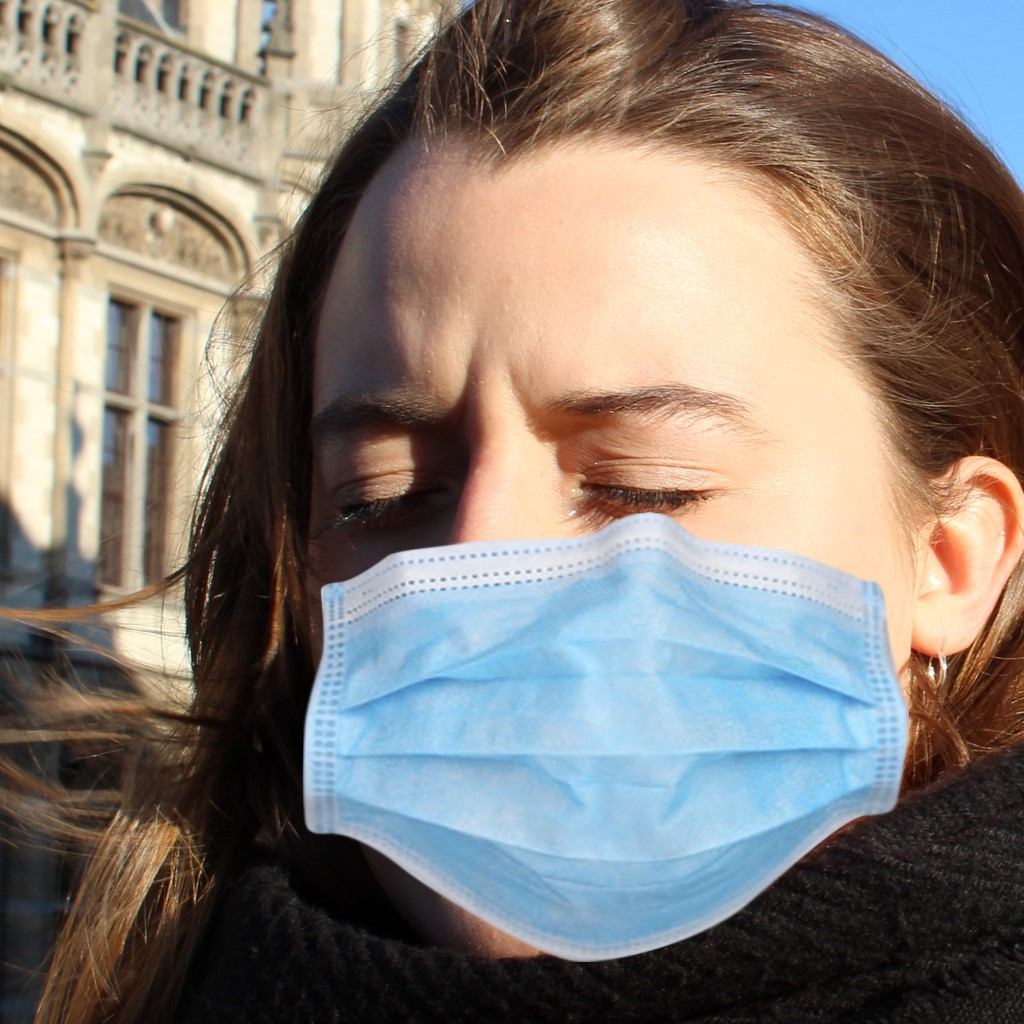con_mascara: (275, 37, 999, 967)
